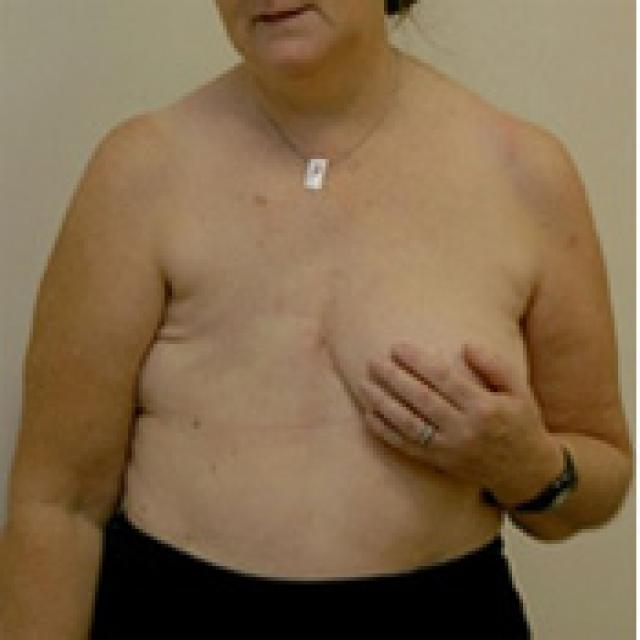Seno herido: (135, 262, 326, 461)
